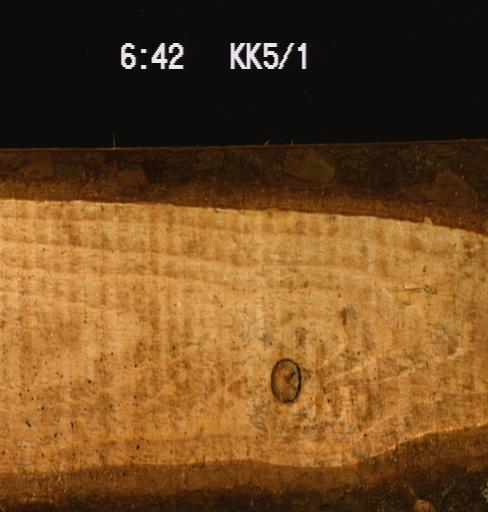dry_knot: (268, 356, 301, 403)
wave: (0, 137, 487, 232), (0, 421, 487, 511)
